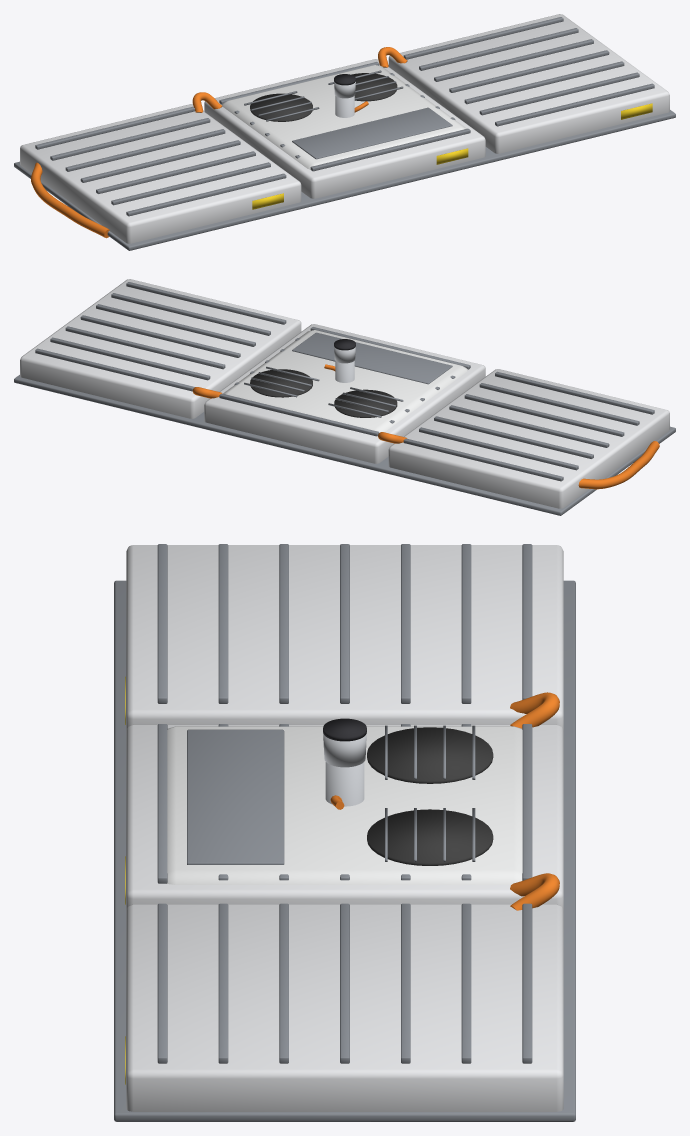
Rendered from piezas.glb.
The picture shows the model from 3 angles, top to bottom: view 1: azimuth 30°, elevation 25°; view 2: azimuth 150°, elevation 25°; view 3: azimuth 270°, elevation 25°; orthographic projection. The views are drawn at different scales.
Visible parts, largest first — view 1: baterias_techo__aluminio, baterias_techo__pintura_gris, unidad_ac__plastico_blanco, unidad_ac__pintura_gris, unidad_ac__plastico_negro, baterias_techo__naranja_hv, baterias_techo__amarillo, escape__acero; view 2: baterias_techo__aluminio, baterias_techo__pintura_gris, unidad_ac__plastico_blanco, unidad_ac__pintura_gris, unidad_ac__plastico_negro, baterias_techo__naranja_hv, escape__acero; view 3: baterias_techo__aluminio, baterias_techo__pintura_gris, unidad_ac__plastico_blanco, unidad_ac__pintura_gris, unidad_ac__plastico_negro, escape__acero, baterias_techo__naranja_hv, escape__pintura_negra.
Boxes of the visible parts, x1,y1,x2,y2 form: baterias_techo__aluminio: [20, 14, 669, 243]; baterias_techo__pintura_gris: [14, 17, 675, 250]; unidad_ac__plastico_blanco: [222, 65, 466, 169]; unidad_ac__pintura_gris: [244, 70, 452, 159]; unidad_ac__plastico_negro: [250, 73, 397, 121]; baterias_techo__naranja_hv: [31, 47, 407, 238]; baterias_techo__amarillo: [252, 103, 652, 209]; escape__acero: [334, 81, 355, 117]; baterias_techo__aluminio: [20, 279, 669, 508]; baterias_techo__pintura_gris: [14, 282, 675, 515]; unidad_ac__plastico_blanco: [223, 330, 467, 432]; unidad_ac__pintura_gris: [244, 332, 452, 417]; unidad_ac__plastico_negro: [250, 369, 397, 417]; baterias_techo__naranja_hv: [192, 387, 659, 489]; escape__acero: [334, 346, 355, 382]; baterias_techo__aluminio: [126, 545, 563, 1111]; baterias_techo__pintura_gris: [114, 544, 575, 1121]; unidad_ac__plastico_blanco: [167, 726, 522, 884]; unidad_ac__pintura_gris: [187, 725, 475, 864]; unidad_ac__plastico_negro: [367, 727, 493, 865]; escape__acero: [323, 732, 366, 806]; baterias_techo__naranja_hv: [510, 692, 559, 910]; escape__pintura_negra: [323, 718, 366, 741].
Size of the model in its own units: 5.38 by 1.03 by 1.9.
